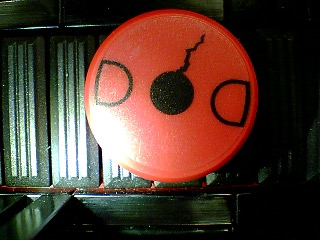CRACK: (83, 8, 259, 182)
